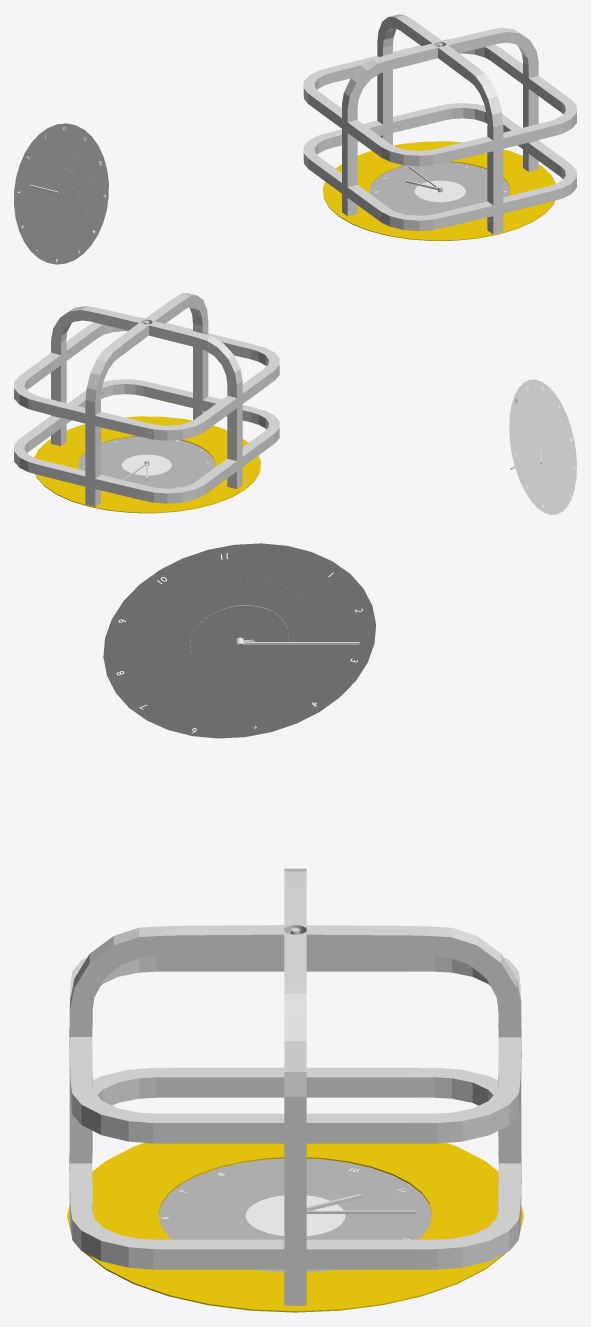
The model's file is FinalStageV1.fbx.
The picture shows the model from 3 angles, top to bottom: view 1: azimuth 30°, elevation 25°; view 2: azimuth 150°, elevation 25°; view 3: azimuth 270°, elevation 25°; orthographic projection. The views are drawn at different scales.
Parts seen in each view (by area): view 1: Circle.004, Circle, Cube.005, Cube.007, Cube.004, Circle.002, Circle.005, Cube.015, Cube.011, Cube.006, Cube.008, Cube.012 (+7 smaller); view 2: Circle, Circle.004, Cube.005, Cube.006, Cube.004, Circle.002, Cube.010, Cube.014, Cube.007, Cube.013, Cube.009, Circle.005 (+7 smaller); view 3: Circle, Circle.004, Circle.002, Circle.005, Cube.007, Cube.006, Cube.004, Cube.009, Cube.013, Cube.008, Cube.012, Cube.010 (+7 smaller).
Part boxes in pixels (x1,y1,x2,y2): Circle.004: [14, 123, 108, 264]; Circle: [323, 141, 555, 240]; Cube.005: [342, 42, 441, 215]; Cube.007: [438, 45, 503, 234]; Cube.004: [437, 27, 538, 171]; Circle.002: [370, 162, 510, 215]; Circle.005: [33, 151, 90, 236]; Cube.015: [347, 120, 493, 166]; Cube.011: [347, 185, 493, 231]; Cube.006: [377, 14, 441, 144]; Cube.008: [503, 140, 576, 213]; Cube.012: [503, 76, 576, 148]; Circle: [34, 416, 260, 513]; Circle.004: [509, 379, 576, 514]; Cube.005: [145, 320, 242, 488]; Cube.006: [85, 323, 148, 506]; Cube.004: [51, 306, 149, 446]; Circle.002: [78, 436, 215, 488]; Cube.010: [95, 458, 236, 503]; Cube.014: [95, 395, 236, 440]; Cube.007: [145, 293, 208, 419]; Cube.013: [14, 352, 85, 423]; Cube.009: [14, 416, 85, 486]; Circle.005: [522, 405, 563, 487]; Circle: [67, 1143, 523, 1312]; Circle.004: [103, 543, 375, 738]; Circle.002: [158, 1158, 432, 1271]; Circle.005: [156, 581, 321, 699]; Cube.007: [69, 925, 284, 1219]; Cube.006: [306, 925, 521, 1219]; Cube.004: [284, 930, 306, 1305]; Cube.009: [306, 1163, 521, 1269]; Cube.013: [306, 1037, 521, 1143]; Cube.008: [69, 1163, 284, 1269]; Cube.012: [69, 1037, 284, 1143]; Cube.010: [306, 1067, 521, 1164].
Bounding box in the file's own units: 10286 × 3120 × 4044.
